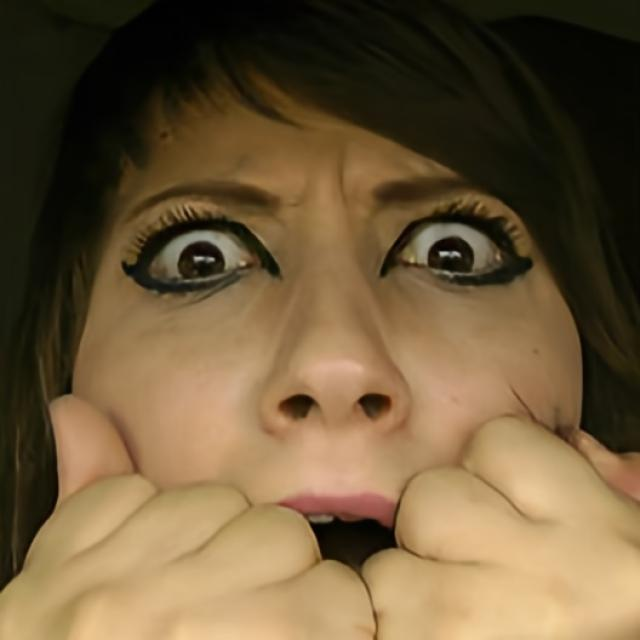fear: (76, 52, 582, 640)
